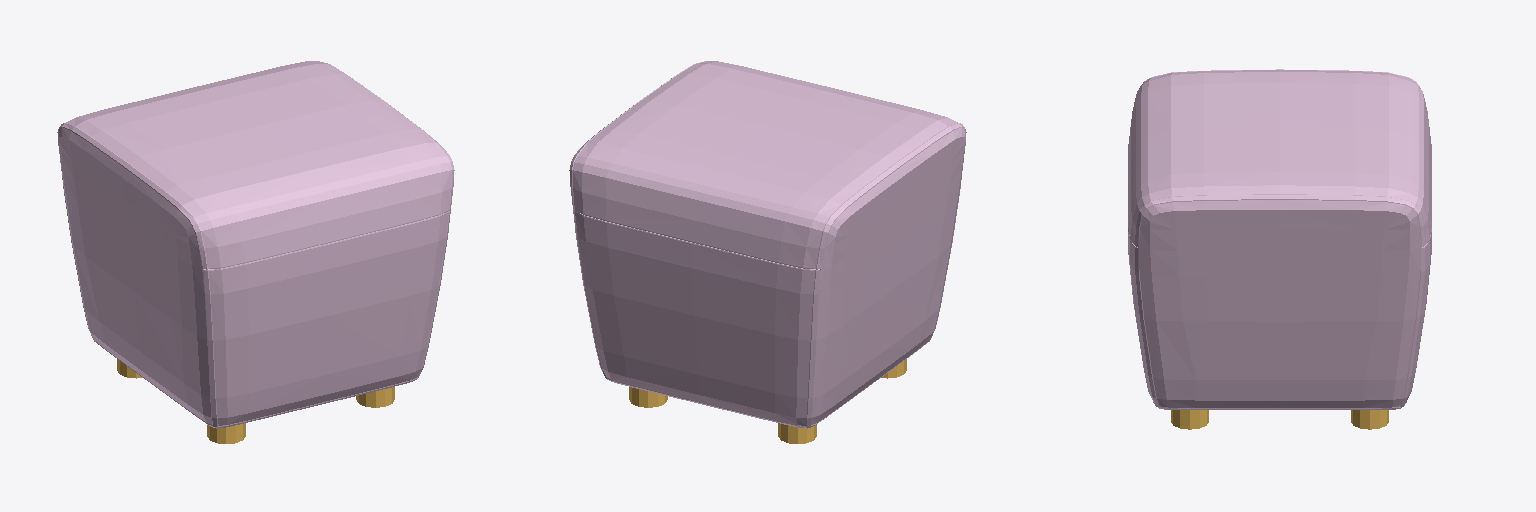
File: Seat.obj
3 views of the same model, side by side, from view 1: azimuth 30°, elevation 25°; view 2: azimuth 150°, elevation 25°; view 3: azimuth 270°, elevation 25° (orthographic).
Visible parts, largest first — view 1: m_Nerida_poef; view 2: m_Nerida_poef; view 3: m_Nerida_poef.
Boxes of the visible parts, <box> form: m_Nerida_poef: <box>57,61,454,443</box>; m_Nerida_poef: <box>569,61,966,443</box>; m_Nerida_poef: <box>1128,69,1431,429</box>.
Bounding box in the file's own units: 46.35 × 42.51 × 45.36.